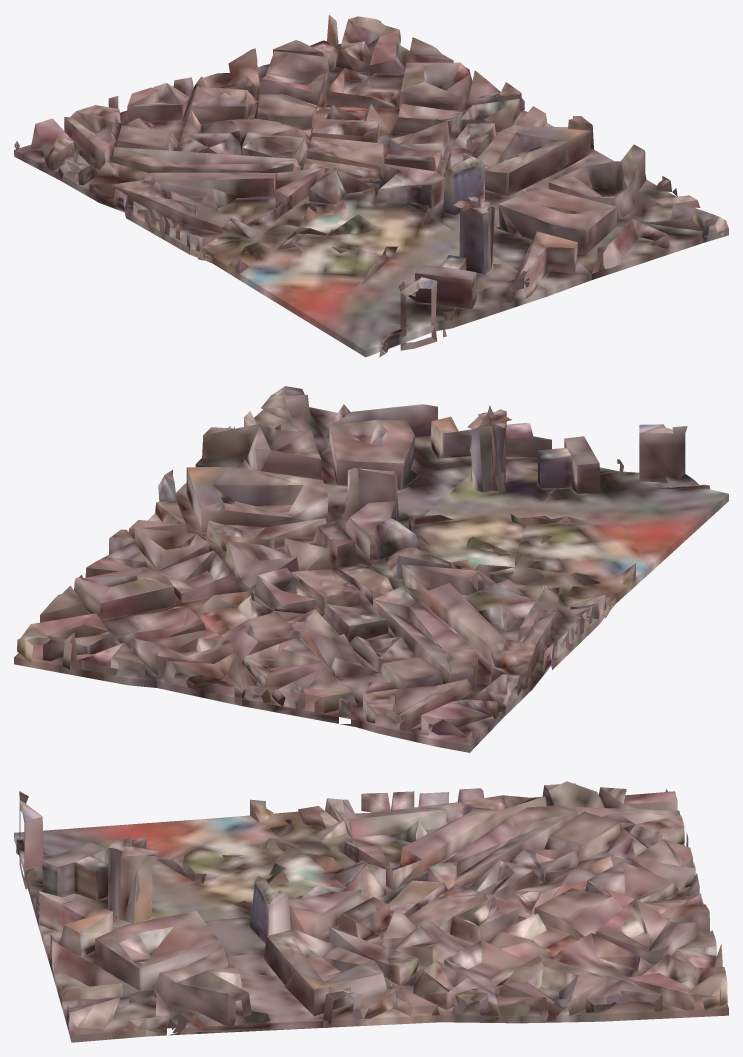
3 renders of one model, top to bottom at view 1: azimuth 30°, elevation 25°; view 2: azimuth 150°, elevation 25°; view 3: azimuth 270°, elevation 25°, orthographic. The views are drawn at different scales.
Parts seen in each view (by area): view 1: Mesh_0; view 2: Mesh_0; view 3: Mesh_0.
Boxes of the visible parts, <box> form: Mesh_0: <box>14,15,728,357</box>; Mesh_0: <box>14,386,728,752</box>; Mesh_0: <box>14,781,728,1042</box>.
Bounding box in the file's own units: 532 × 104 × 659.
Materials: 2 (2 with a texture image).
